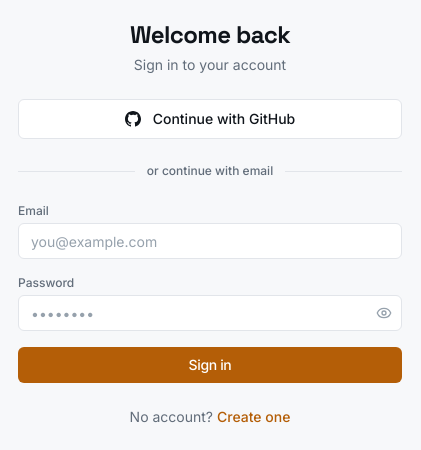
LoginPage › shows an error for a malformed email
The image size is (421, 450).
Type "not-an-email" into the field labelled "Email".
click(210, 241); type("not-an-email")  # box [18, 223, 402, 259]
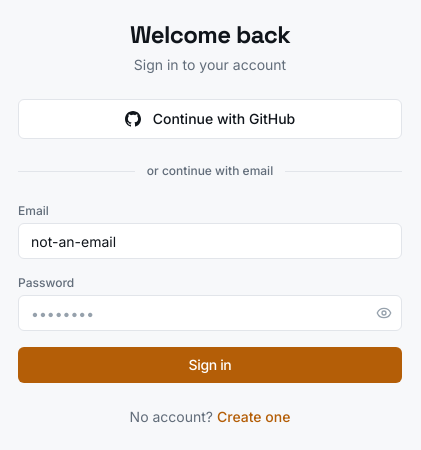
Type "secret123" into the password field labelled "Password".
click(210, 313); type("secret123")  # box [18, 295, 402, 331]
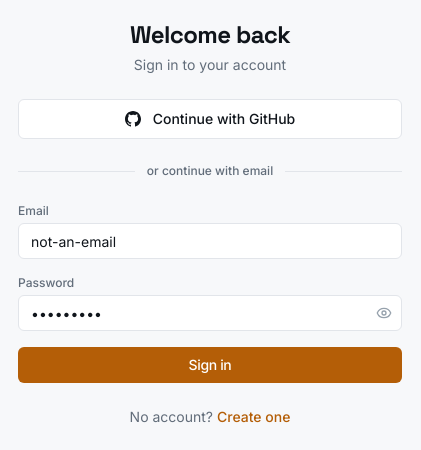
Submit the form, box [18, 203, 402, 383]
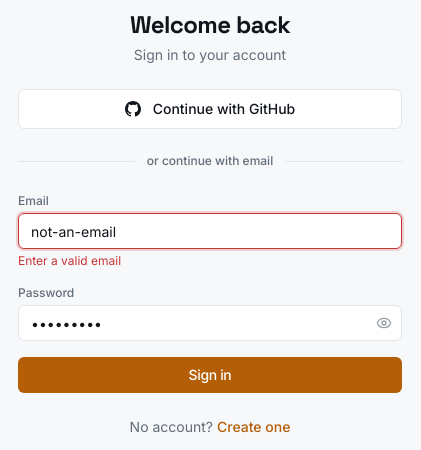
Expected: the text "Enter a valid email" is shown, [18, 253, 121, 268]
